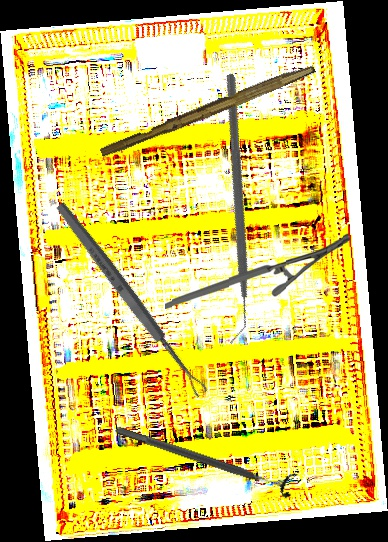Chopper: (103, 72, 359, 345)
Fixation Ring: (111, 415, 299, 502)
Needle Holder: (163, 233, 352, 309)
Scalpel Handle: (98, 57, 317, 163)
Surgical Spoon: (53, 200, 209, 399)
